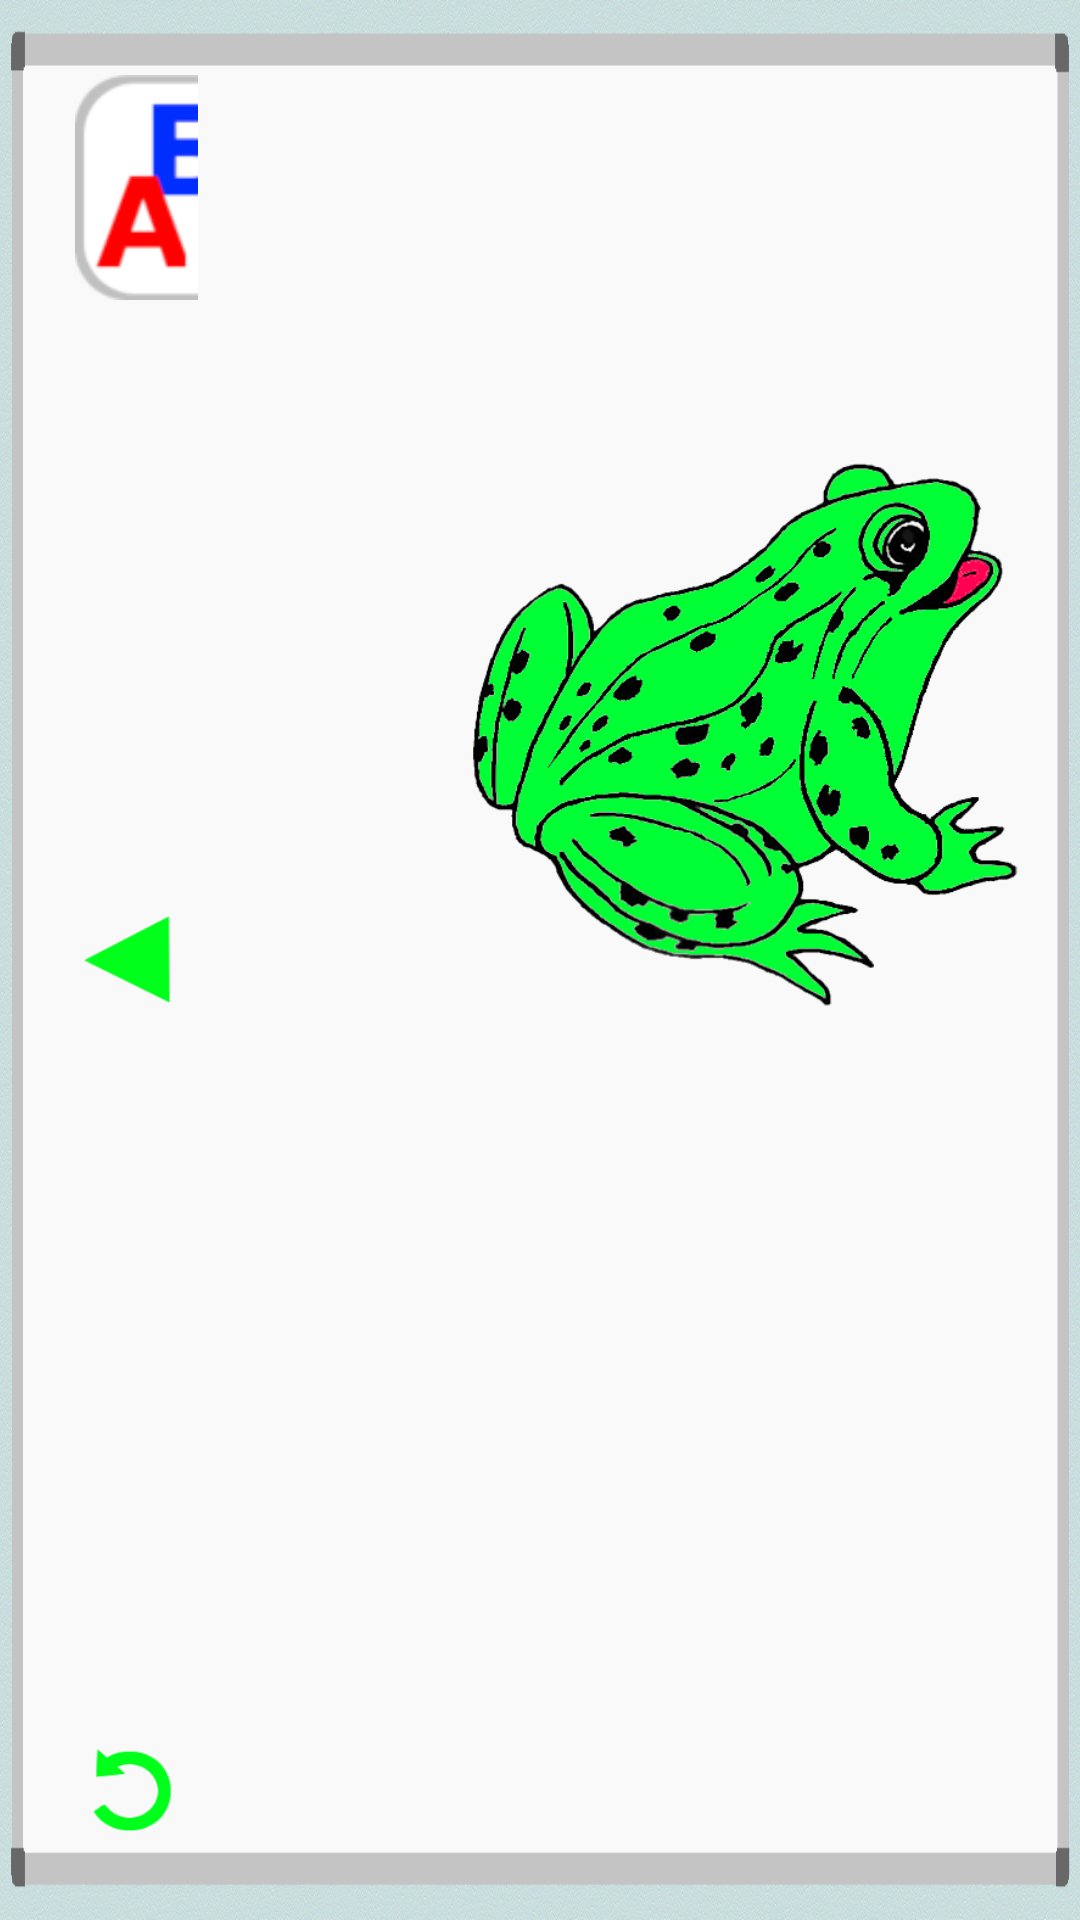

Named icons in this screenshot (1080px x 1920px) and their bounding boxes, Rect(x1, y1, x2, y2):
back: Rect(84, 916, 170, 1003)
reboot: Rect(94, 1749, 171, 1831)
